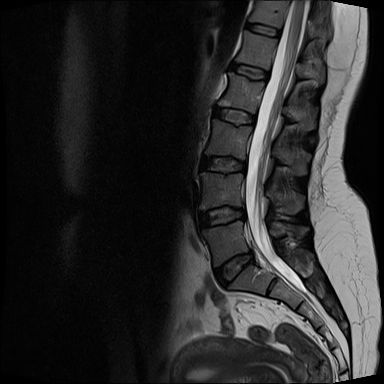Lumbar Disc Bulge LDB: (203, 242, 260, 293), (191, 197, 251, 236)
Normal IVD: (195, 147, 249, 180), (210, 98, 258, 130), (227, 59, 270, 85), (242, 20, 283, 40)
